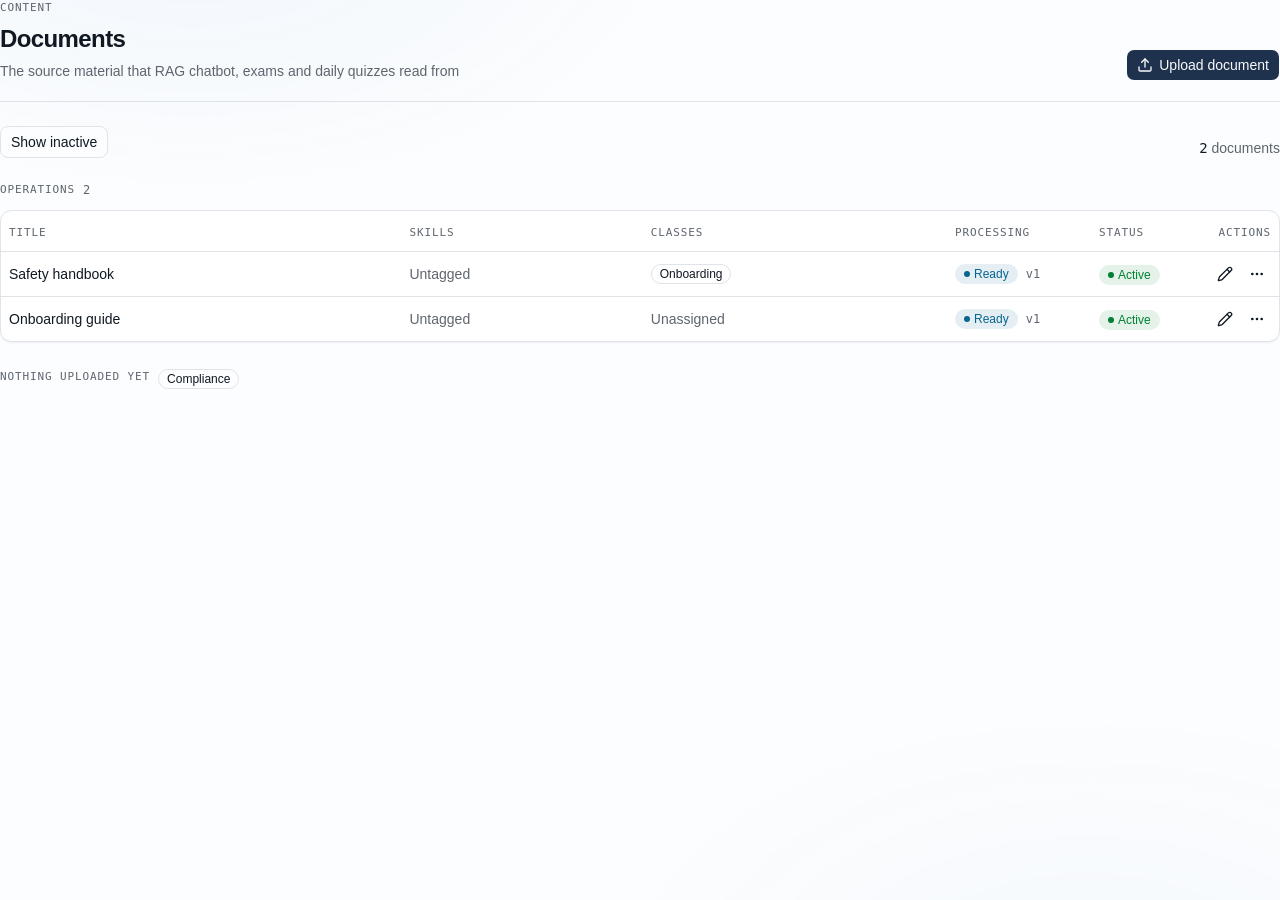
Test: DocumentsPage edit and delete › will not save an empty class list
The image size is (1280, 900).
Expected: the link "Safety handbook" is shown, [9,266,114,282]
Click the button named "Actions for": [1257, 274] box [1243,260,1271,288]
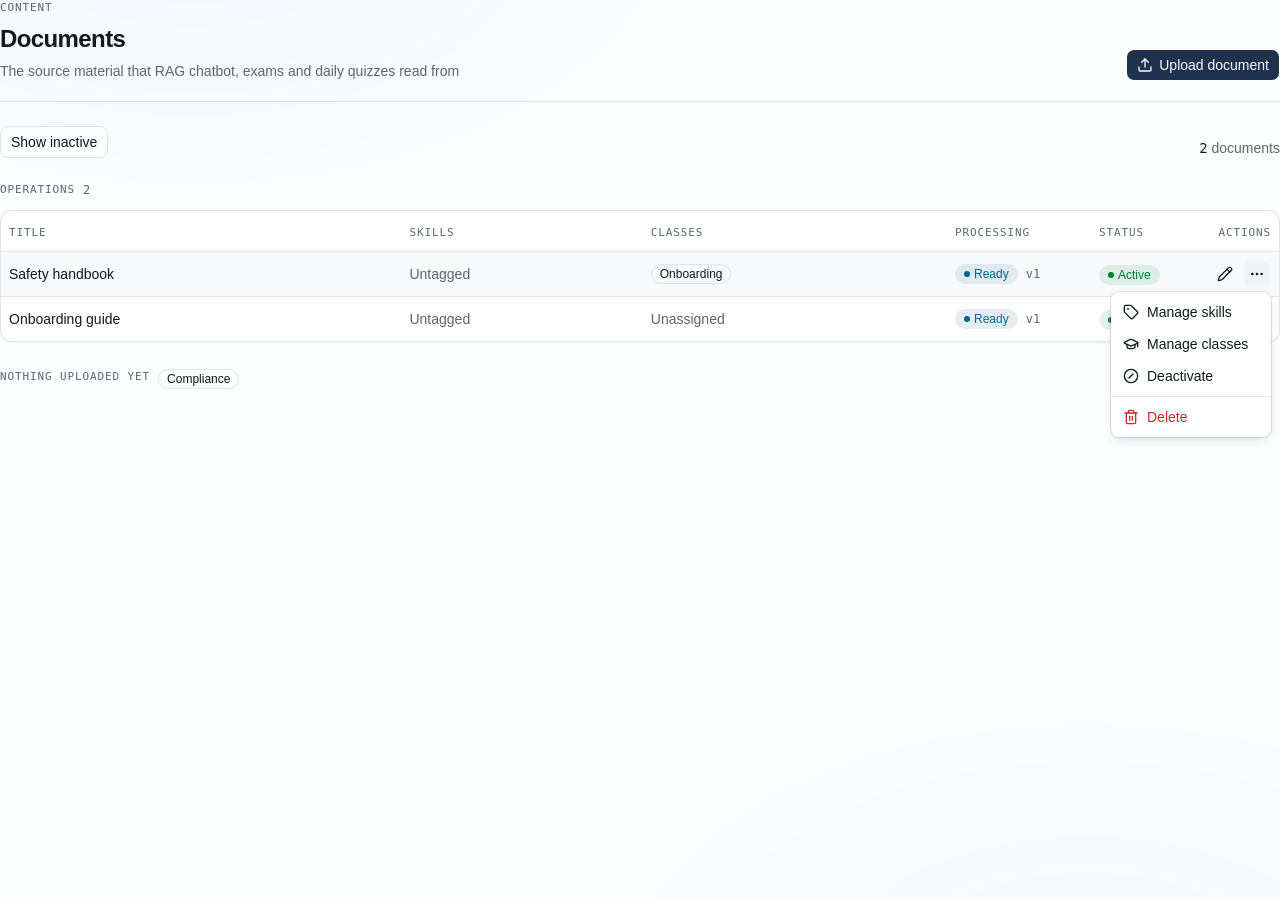
Click the menu item "Manage classes": [1186, 344] box [1123,336,1248,352]
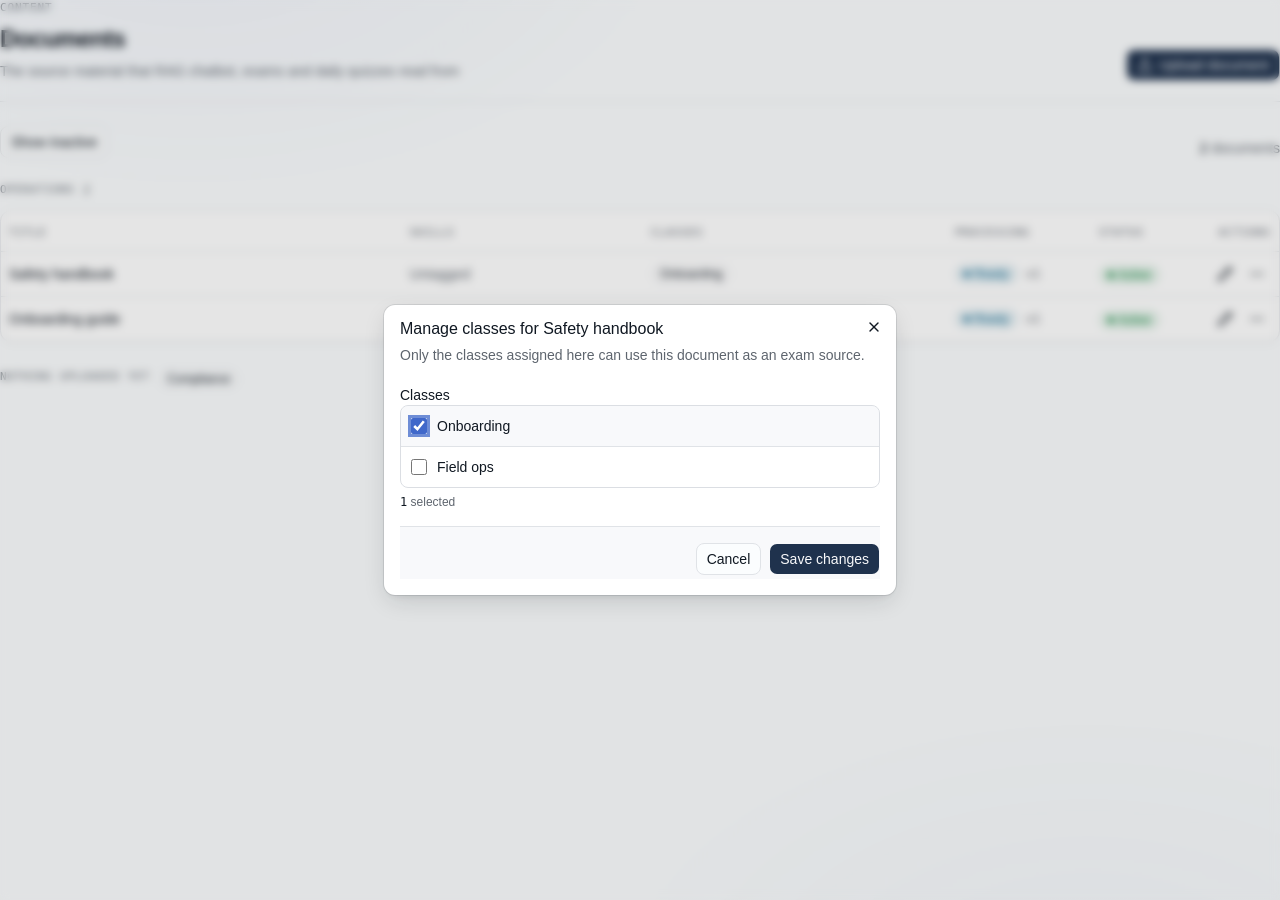
Click the checkbox labelled "Onboarding": [419, 426] box [411,418,427,434]
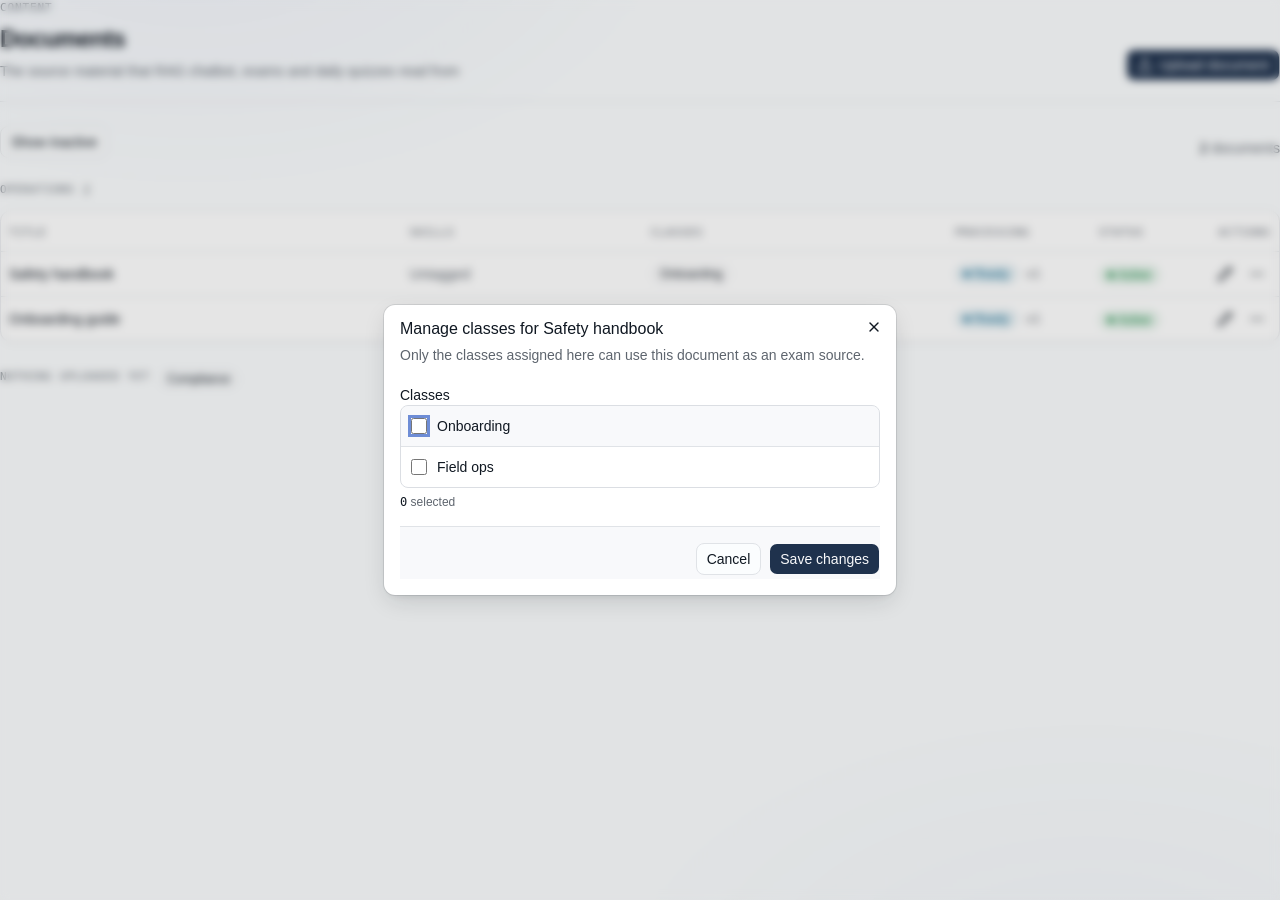
Click the button "Save changes": [825, 559] box [769,543,880,575]
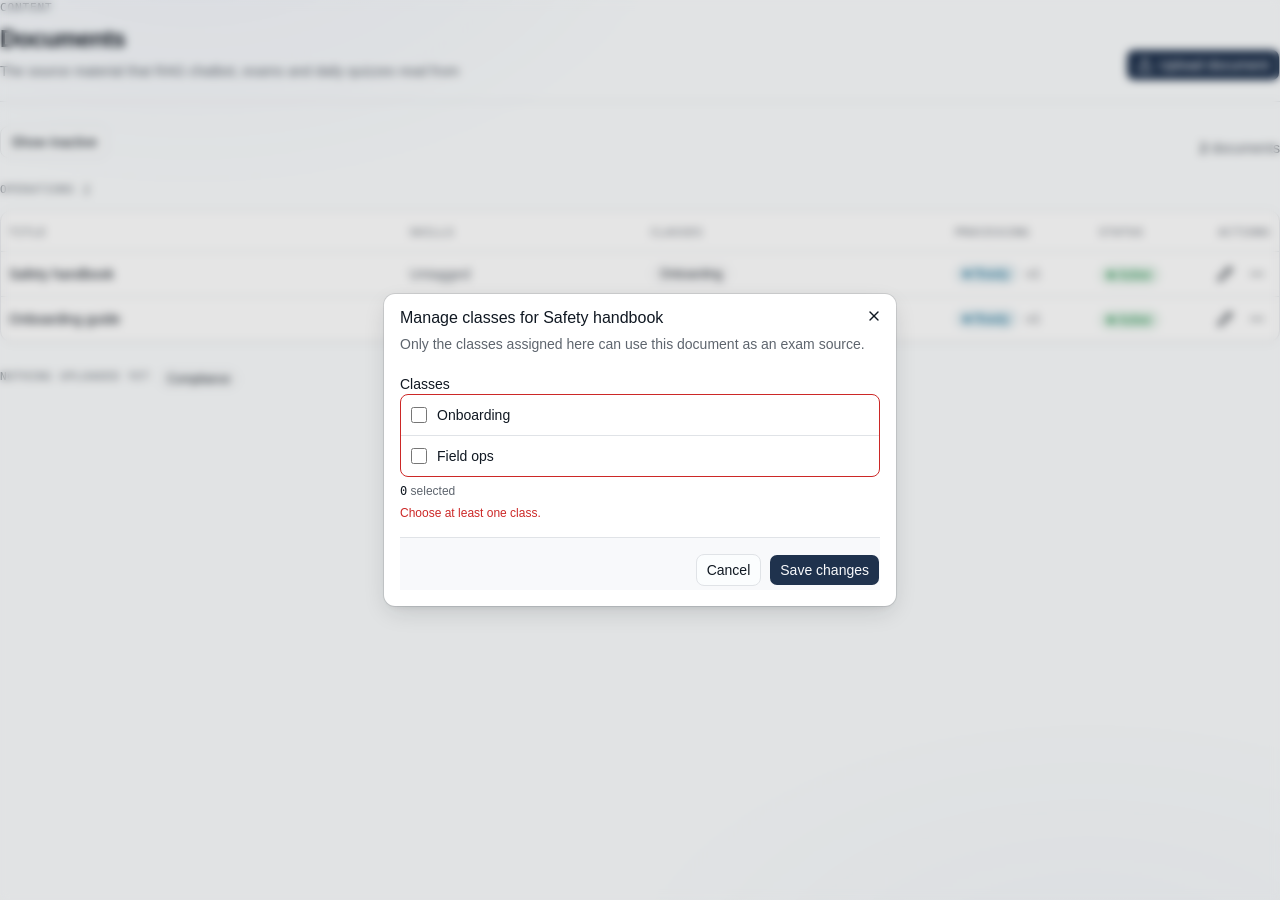
Now the message reads "Choose at least one class.", box [400,506,541,520]
